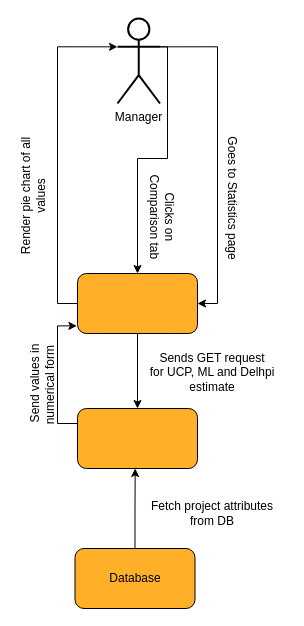
The diagram is 304 pixels wide and 626 high, and some of its shapes have lost their labels. Each missing label, with the centre of its shape:
"Frontend" belongs at [137,303].
"REST API" belongs at [137,438].
